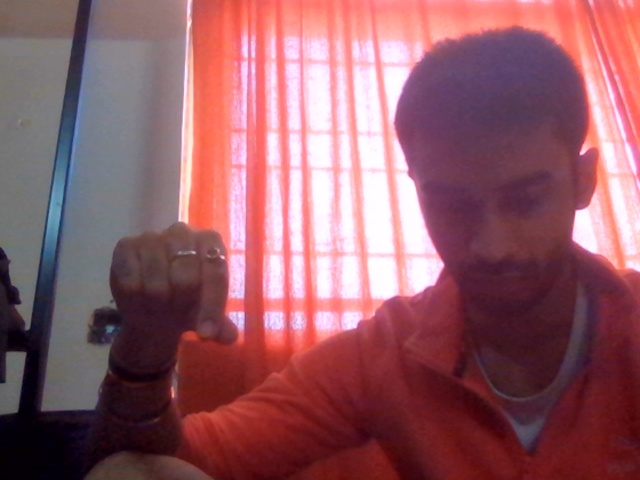Q: (79, 208, 285, 404)
